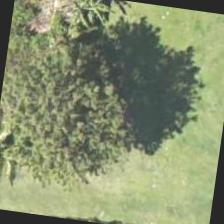Kelapa_Sawit: (0, 115, 54, 213)
